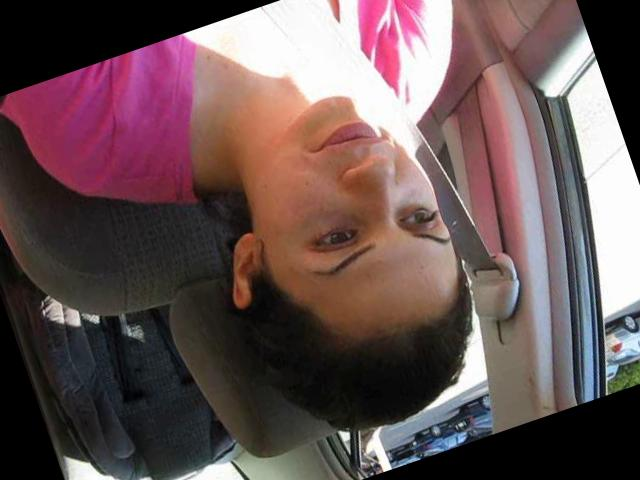eye_open: (300, 216, 364, 262), (392, 195, 444, 239)
face: (236, 66, 472, 323)
